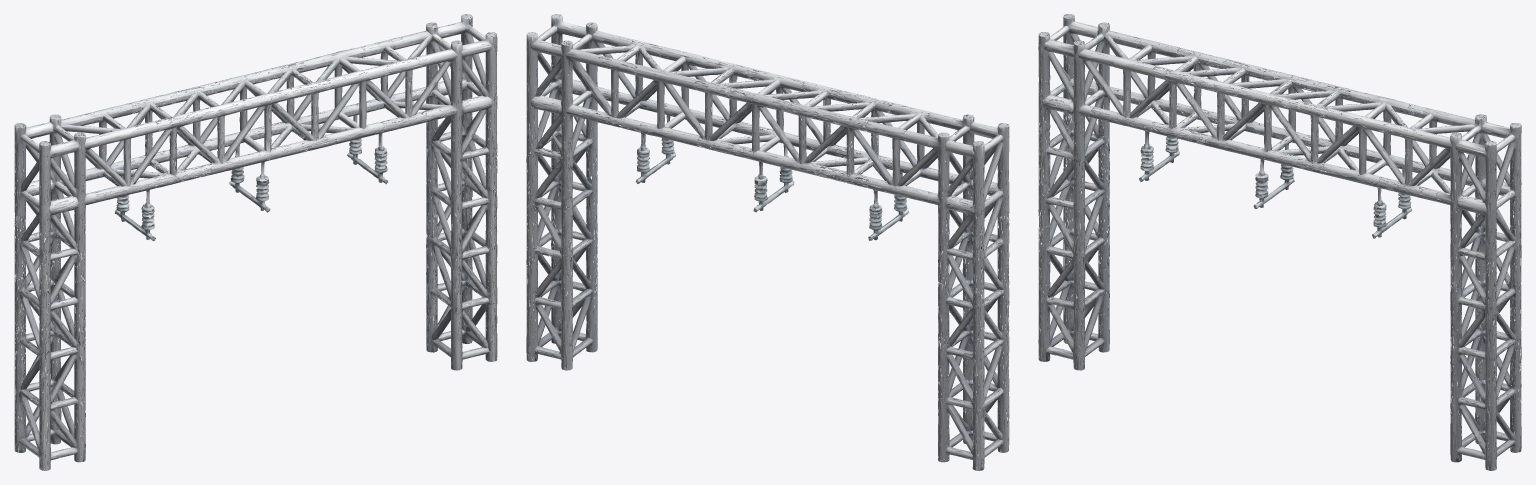
Rendered from env_gantry.glb.
The picture shows the model from 3 angles, left to right: view 1: azimuth 30°, elevation 25°; view 2: azimuth 150°, elevation 25°; view 3: azimuth 330°, elevation 25°; orthographic projection.
Visible parts, largest first — view 1: tripo_node_4ea410a3-6b4a-41b9-8d8d-bba8dfcf1569; view 2: tripo_node_4ea410a3-6b4a-41b9-8d8d-bba8dfcf1569; view 3: tripo_node_4ea410a3-6b4a-41b9-8d8d-bba8dfcf1569.
Part boxes in pixels (x1,y1,x2,y2): tripo_node_4ea410a3-6b4a-41b9-8d8d-bba8dfcf1569: [14, 14, 497, 470]; tripo_node_4ea410a3-6b4a-41b9-8d8d-bba8dfcf1569: [526, 14, 1009, 470]; tripo_node_4ea410a3-6b4a-41b9-8d8d-bba8dfcf1569: [1038, 14, 1521, 470].
Bounding box in the file's own units: 0.9803 × 0.6678 × 0.138.
1 material, 1 textured.
